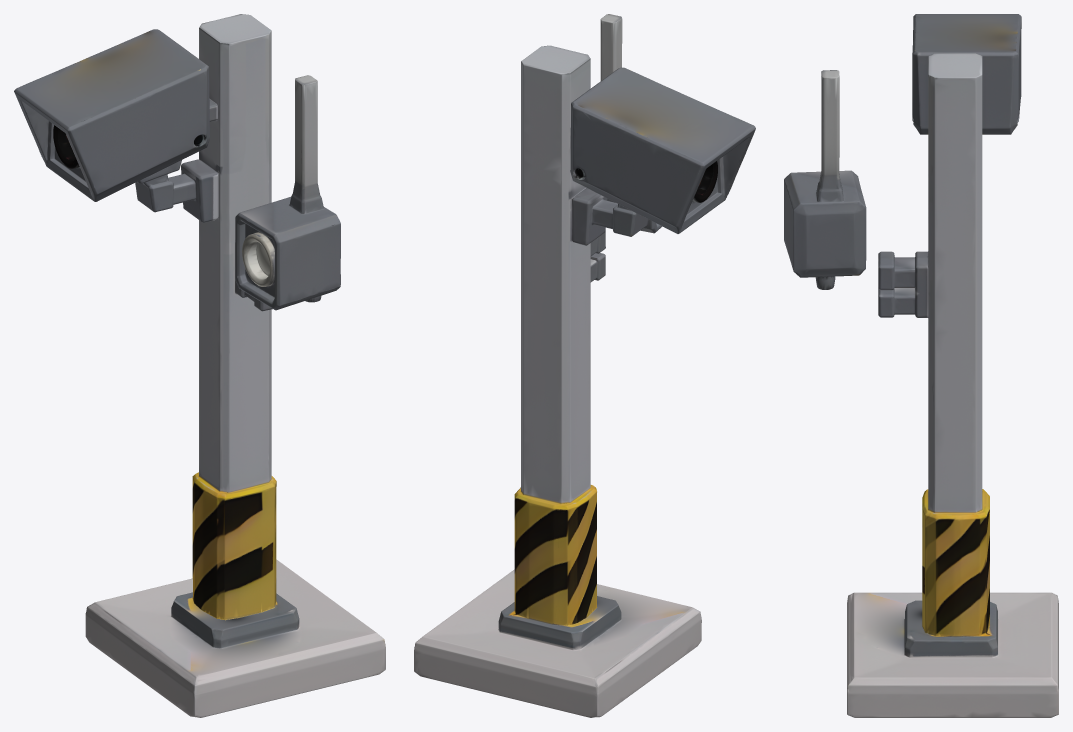
Rendered from SpeedCamera.fbx.
3 views of the same model, side by side, from view 1: azimuth 30°, elevation 25°; view 2: azimuth 150°, elevation 25°; view 3: azimuth 270°, elevation 25° (orthographic). The views are drawn at different scales.
Visible parts, largest first — view 1: texture_pbr_v128; view 2: texture_pbr_v128; view 3: texture_pbr_v128.
Boxes of the visible parts, x1,y1,x2,y2 form: texture_pbr_v128: (14, 14, 385, 717); texture_pbr_v128: (414, 14, 755, 717); texture_pbr_v128: (784, 14, 1058, 717).
Bounding box in the file's own units: 48.46 × 102 × 41.95.
1 material, 1 textured.
